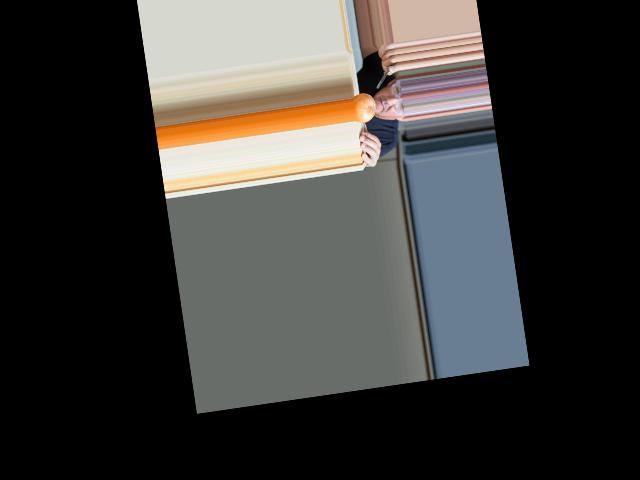onion: (351, 91, 378, 124)
